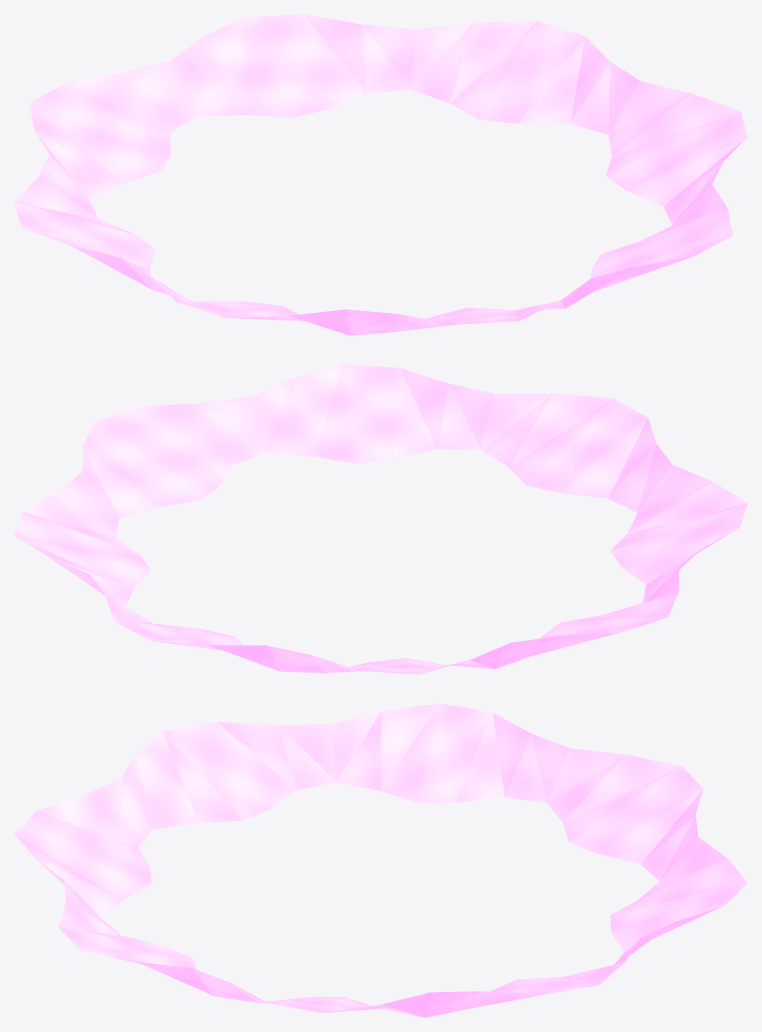
File: aura_shockwave_ring.glb
The picture shows the model from 3 angles, top to bottom: view 1: azimuth 30°, elevation 25°; view 2: azimuth 150°, elevation 25°; view 3: azimuth 270°, elevation 25°; orthographic projection. The views are drawn at different scales.
Visible parts, largest first — view 1: Aura_ShockwaveRing; view 2: Aura_ShockwaveRing; view 3: Aura_ShockwaveRing.
Boxes of the visible parts, x1,y1,x2,y2 form: Aura_ShockwaveRing: (14,14,747,335); Aura_ShockwaveRing: (14,364,747,674); Aura_ShockwaveRing: (14,703,747,1017).
Bounding box in the file's own units: 2.22 × 0.14 × 2.22.
Materials: 1 (1 with a texture image).
